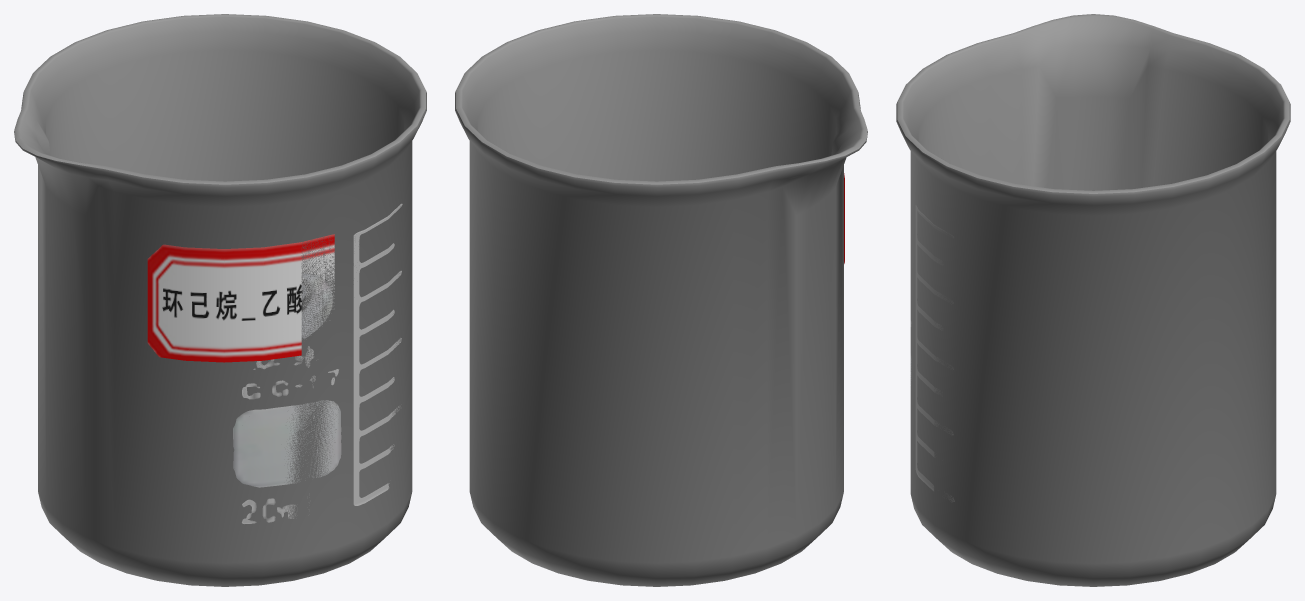
Rendered from SM_10mL环己烷_乙酸乙酯.fbx.
3 views of the same model, side by side, from view 1: azimuth 30°, elevation 25°; view 2: azimuth 150°, elevation 25°; view 3: azimuth 270°, elevation 25° (orthographic). The views are drawn at different scales.
Visible parts, largest first — view 1: SM_10mL环己烷_乙酸乙酯; view 2: SM_10mL环己烷_乙酸乙酯; view 3: SM_10mL环己烷_乙酸乙酯.
Boxes of the visible parts, x1=… form: SM_10mL环己烷_乙酸乙酯: x1=14, y1=14, x2=426, y2=586; SM_10mL环己烷_乙酸乙酯: x1=455, y1=14, x2=867, y2=586; SM_10mL环己烷_乙酸乙酯: x1=896, y1=14, x2=1290, y2=586.
Size of the model in its own units: 0.0364 by 0.0392 by 0.0337.
